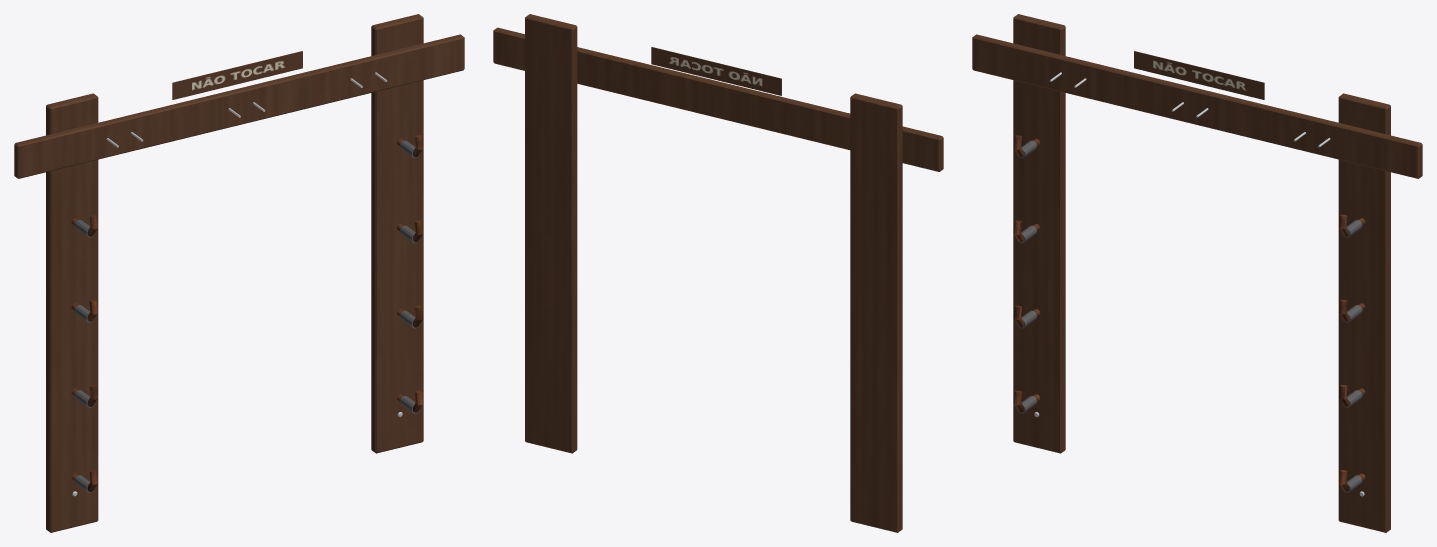
Rendered from rack_armas_parede.glb.
3 renders of one model, left to right at view 1: azimuth 30°, elevation 25°; view 2: azimuth 150°, elevation 25°; view 3: azimuth 330°, elevation 25°, orthographic.
Parts seen in each view (by area): view 1: rack_armas_parede_madeira_escura, rack_armas_parede_placa_rack, rack_armas_parede_ferrugem, rack_armas_parede_borracha; view 2: rack_armas_parede_madeira_escura, rack_armas_parede_placa_rack; view 3: rack_armas_parede_madeira_escura, rack_armas_parede_placa_rack, rack_armas_parede_ferrugem, rack_armas_parede_borracha.
Boxes of the visible parts, x1,y1,x2,y2 form: rack_armas_parede_madeira_escura: (14, 14, 464, 532); rack_armas_parede_placa_rack: (172, 51, 302, 99); rack_armas_parede_ferrugem: (71, 135, 423, 491); rack_armas_parede_borracha: (74, 140, 419, 492); rack_armas_parede_madeira_escura: (493, 14, 943, 532); rack_armas_parede_placa_rack: (651, 47, 781, 95); rack_armas_parede_madeira_escura: (972, 14, 1422, 532); rack_armas_parede_placa_rack: (1134, 51, 1264, 99); rack_armas_parede_ferrugem: (1013, 135, 1365, 491); rack_armas_parede_borracha: (1017, 140, 1362, 492).
Bounding box in the file's own units: 1.1 × 1 × 0.1124.
5 materials, 3 textured.
